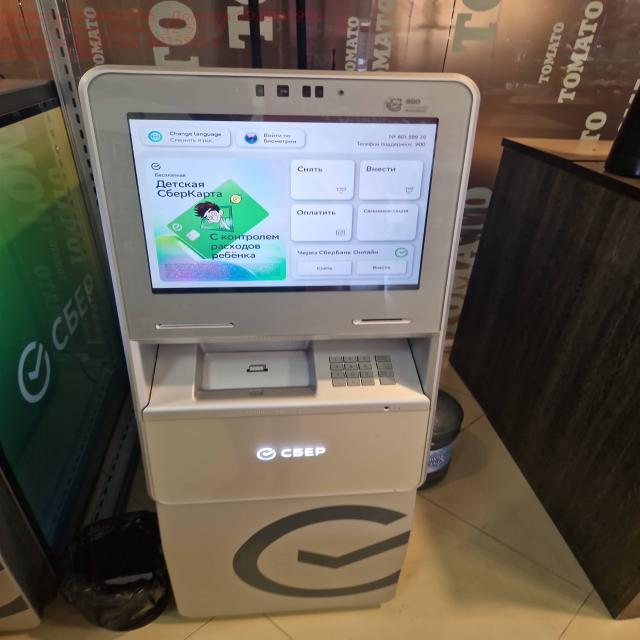bank: (80, 70, 486, 624), (0, 77, 131, 634)
